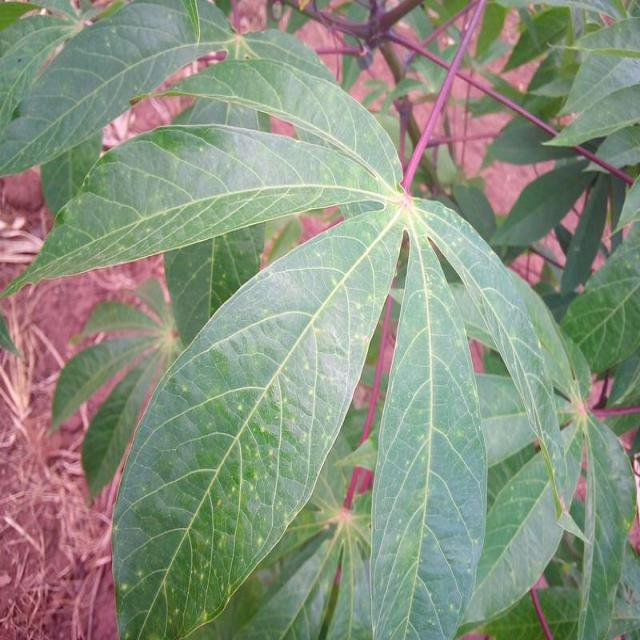cassava leaf: (1, 2, 632, 638), (109, 200, 404, 638), (369, 213, 488, 638)
